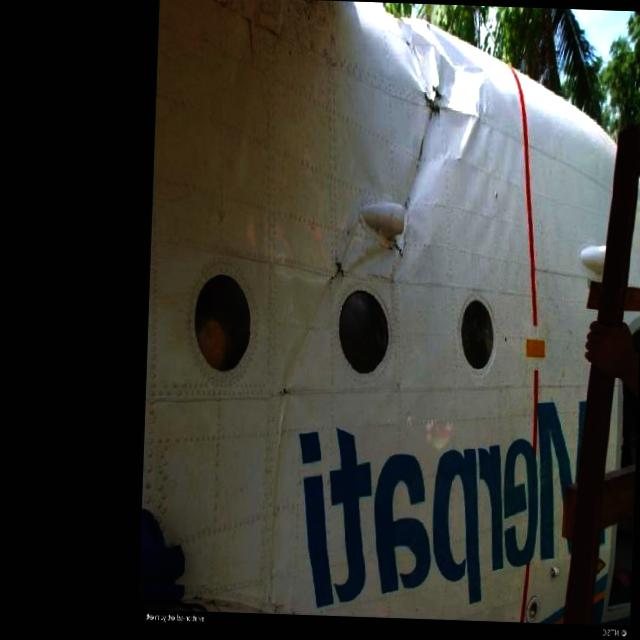crack: (410, 81, 448, 164), (319, 251, 352, 286)
